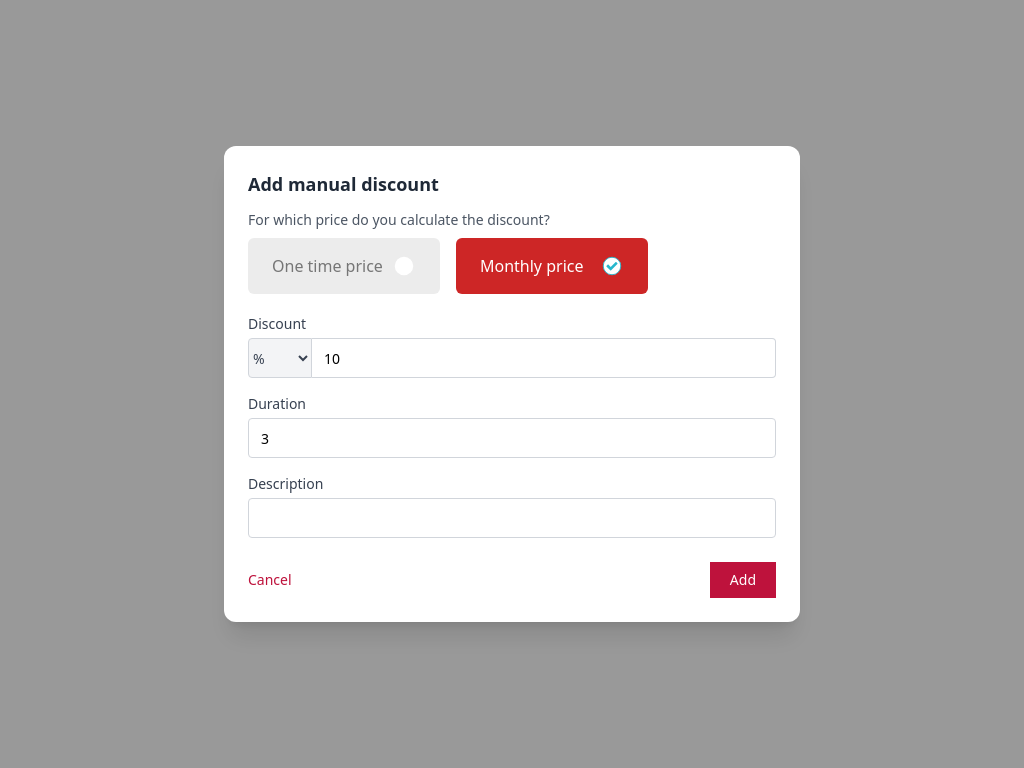
Test: Duration field is hidden when "one-time" is selected
Expected: the text "Duration" is shown, [248,394,306,413]
Note: Click "One time price"
Click the button "One time price" at coordinates (344, 266), box [248,238,440,294]
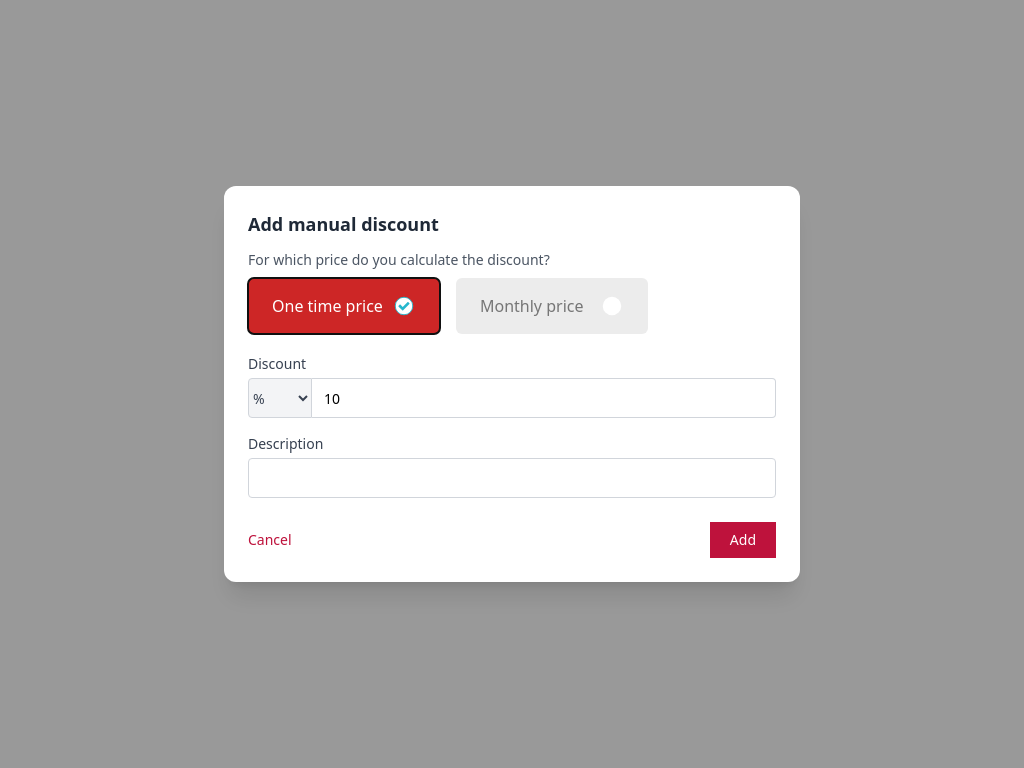
Result: the text "Duration" is gone
